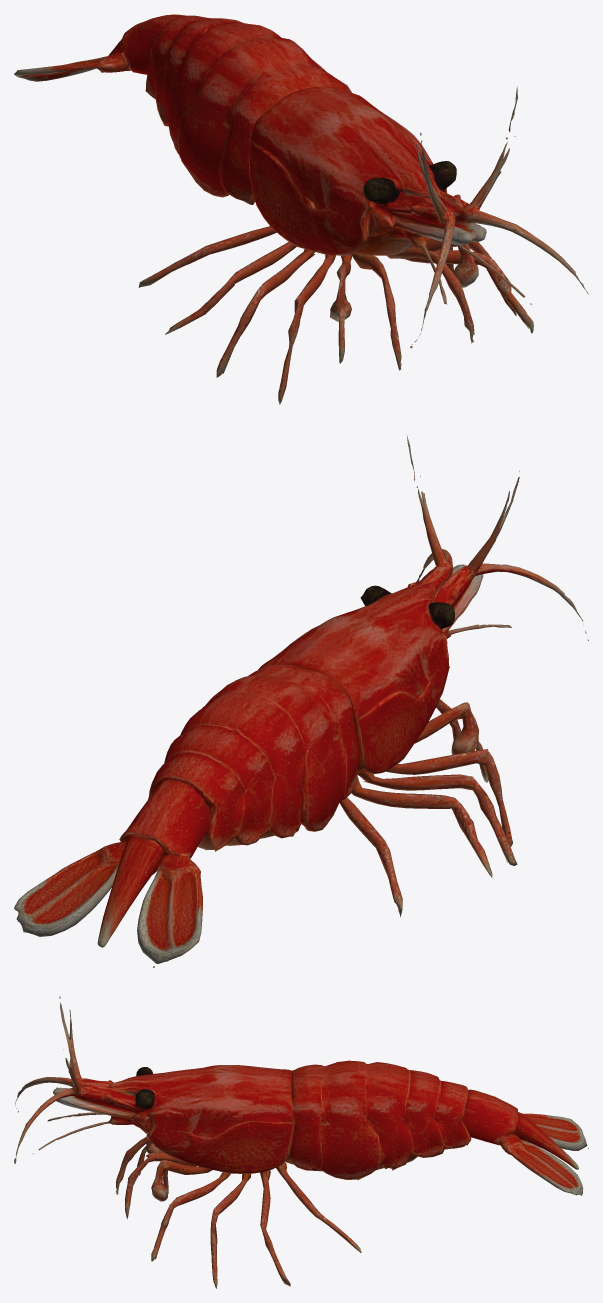
File: cherry_shrimp.glb
The picture shows the model from 3 angles, top to bottom: view 1: azimuth 30°, elevation 25°; view 2: azimuth 150°, elevation 25°; view 3: azimuth 270°, elevation 25°; orthographic projection. The views are drawn at different scales.
Parts seen in each view (by area): view 1: tripo_part_0, tripo_part_1, tripo_part_3, tripo_part_2, tripo_part_12, tripo_part_11, tripo_part_8, tripo_part_6, tripo_part_4, tripo_part_10, tripo_part_9; view 2: tripo_part_1, tripo_part_0, tripo_part_3, tripo_part_2, tripo_part_12, tripo_part_10, tripo_part_11; view 3: tripo_part_0, tripo_part_1, tripo_part_3, tripo_part_8, tripo_part_7, tripo_part_9, tripo_part_5, tripo_part_13, tripo_part_4, tripo_part_6.
Part boxes in pixels (box(x1,y1,x2,y2)): tripo_part_0: box(248, 86, 588, 348); tripo_part_1: box(145, 15, 351, 204); tripo_part_3: box(14, 14, 185, 81); tripo_part_2: box(216, 249, 335, 404); tripo_part_12: box(165, 242, 296, 334); tripo_part_11: box(138, 226, 276, 287); tripo_part_8: box(404, 250, 533, 333); tripo_part_6: box(352, 253, 401, 370); tripo_part_4: box(386, 246, 474, 343); tripo_part_10: box(330, 255, 352, 363); tripo_part_9: box(413, 238, 478, 287); tripo_part_1: box(148, 664, 358, 851); tripo_part_0: box(258, 434, 588, 773); tripo_part_3: box(14, 779, 212, 967); tripo_part_2: box(357, 749, 517, 865); tripo_part_12: box(351, 777, 492, 877); tripo_part_10: box(414, 702, 488, 782); tripo_part_11: box(340, 797, 402, 917); tripo_part_0: box(14, 996, 294, 1173); tripo_part_1: box(285, 1060, 471, 1179); tripo_part_3: box(462, 1089, 588, 1195); tripo_part_8: box(151, 1172, 230, 1261); tripo_part_7: box(210, 1173, 251, 1288); tripo_part_9: box(151, 1160, 212, 1201); tripo_part_5: box(260, 1170, 290, 1286); tripo_part_13: box(276, 1162, 361, 1252); tripo_part_4: box(125, 1152, 196, 1219); tripo_part_6: box(116, 1136, 152, 1194).
Bounding box in the file's own units: 0.4441 × 0.4419 × 0.978.
14 materials, 14 textured.
